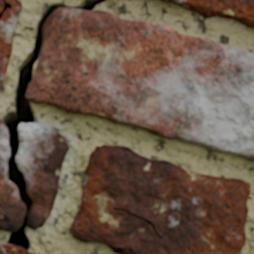brick: (27, 8, 253, 160), (70, 146, 249, 253), (161, 0, 253, 27), (0, 0, 20, 85), (0, 243, 31, 253), (0, 0, 3, 10)
broken_brick: (17, 122, 69, 230), (0, 122, 24, 232)
crack: (0, 2, 68, 251), (75, 0, 107, 11), (0, 0, 12, 20), (117, 246, 137, 253)
